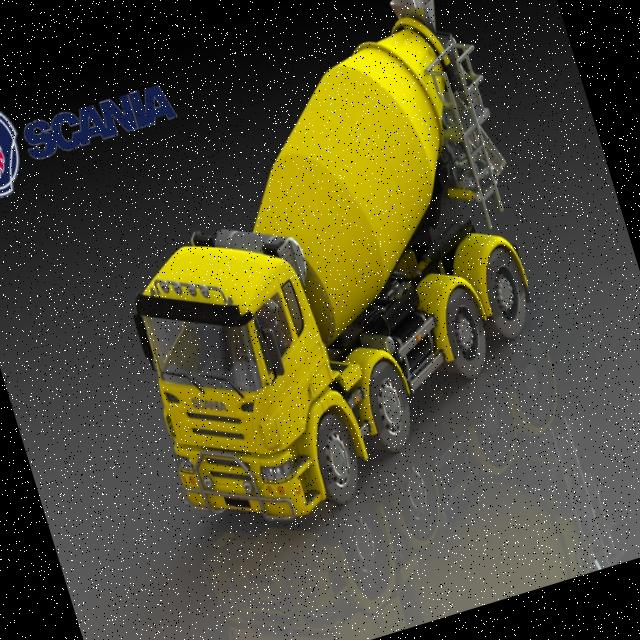Mixer Truck: (64, 0, 592, 549)
